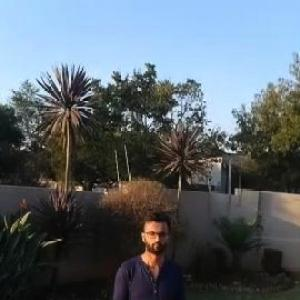follow: (107, 204, 191, 299)
